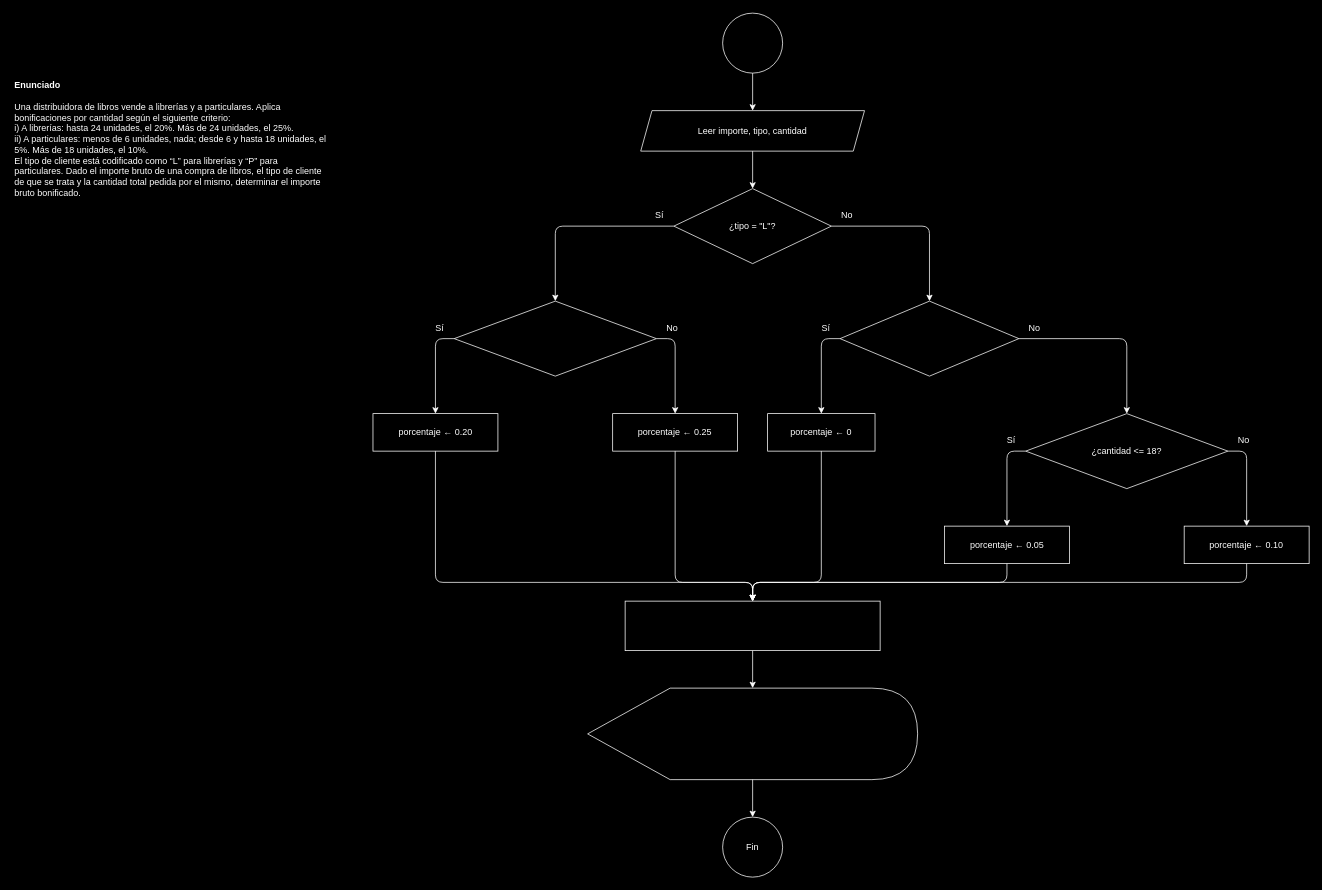
Some shapes in this 1322 by 890 pixel diagram are drawn without their labels. Each missing label, with the centre of its shape:
bonificado ← importe - importe * porcentaje: (752,625)
Escribir "El importe bruto bonificado es: ", bonificado: (752,733)
Inicio: (752,42)
¿cantidad < 6?: (929,338)
¿cantidad <= 24?: (554,338)
